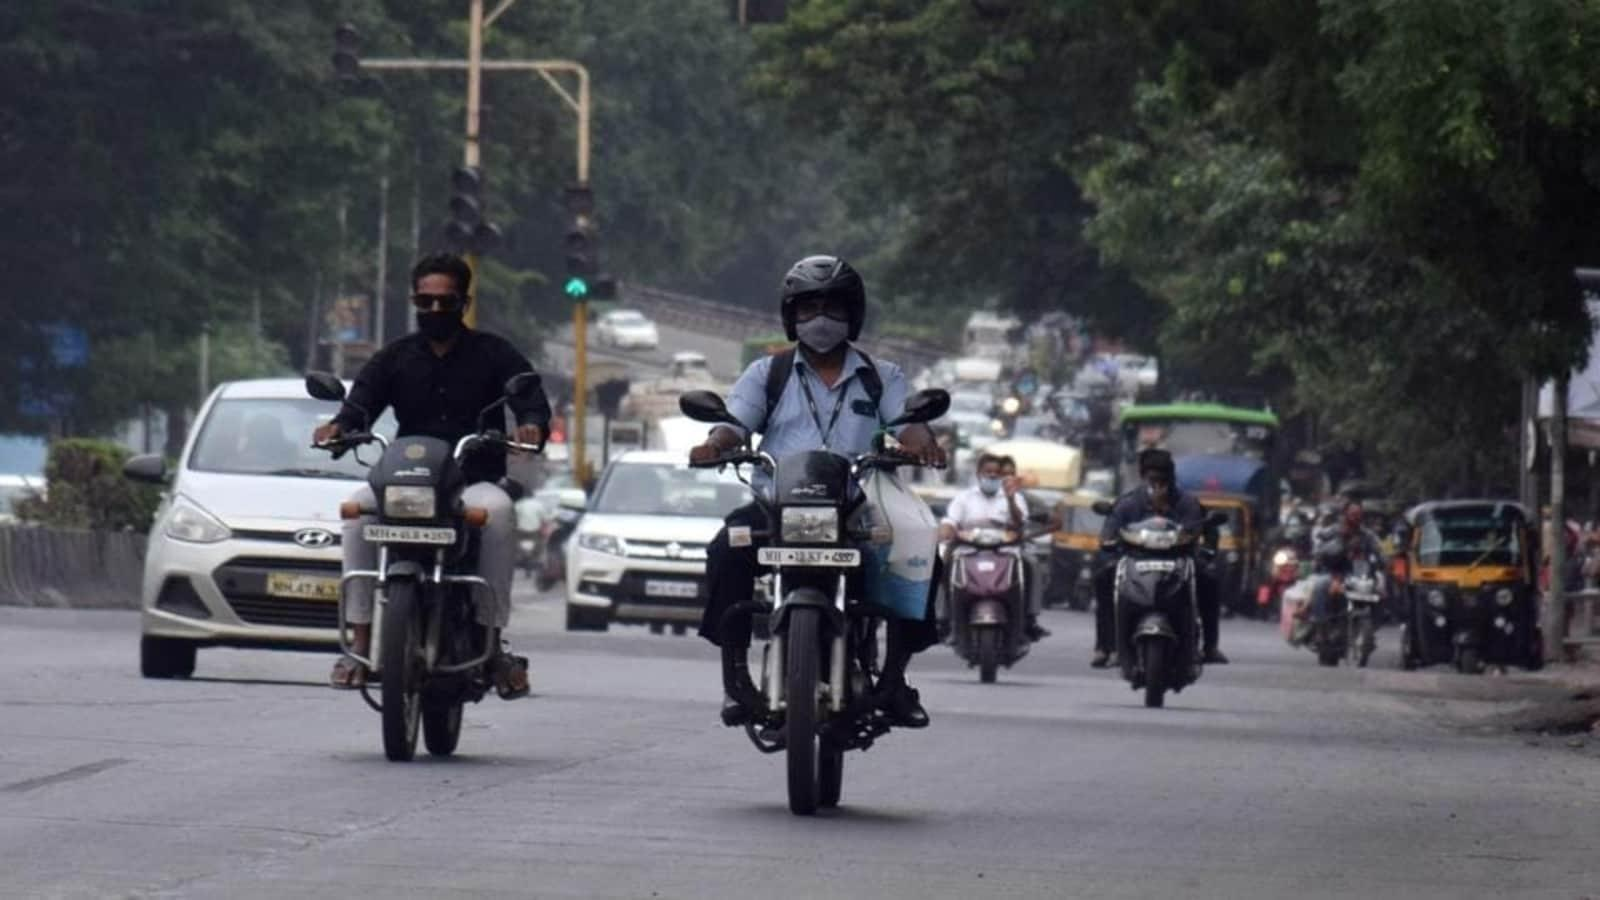front: (336, 425, 502, 772), (756, 448, 884, 833), (1117, 516, 1190, 713)
